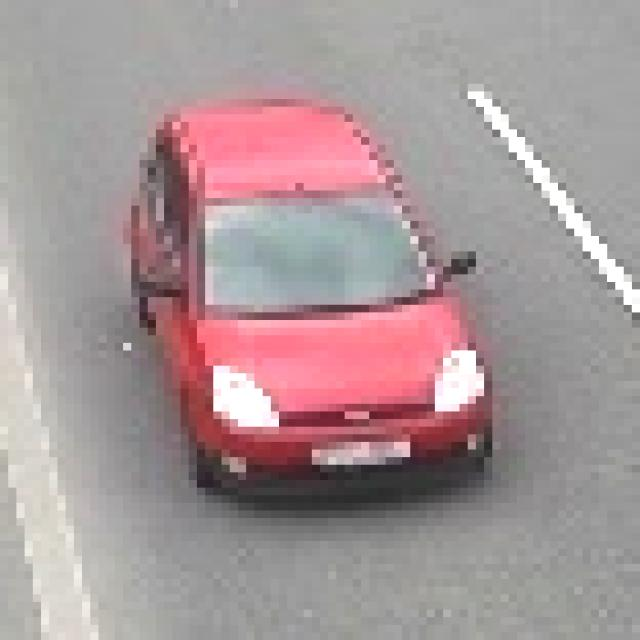red: (130, 104, 490, 500)
